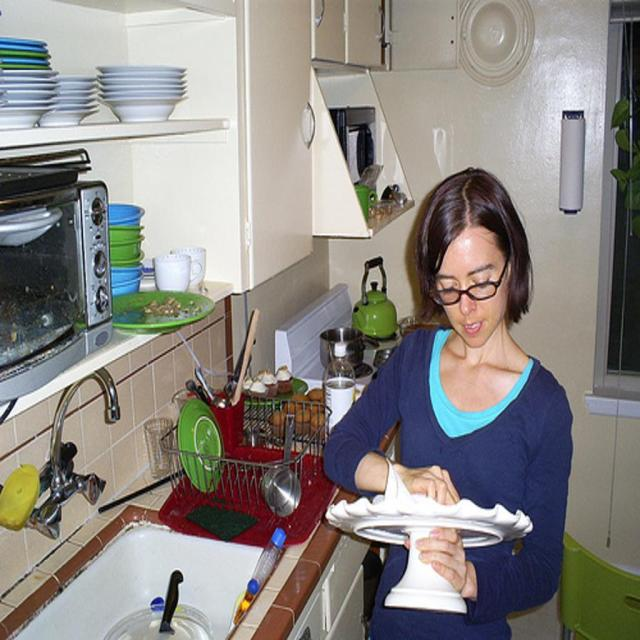Face: (430, 218, 514, 337)
